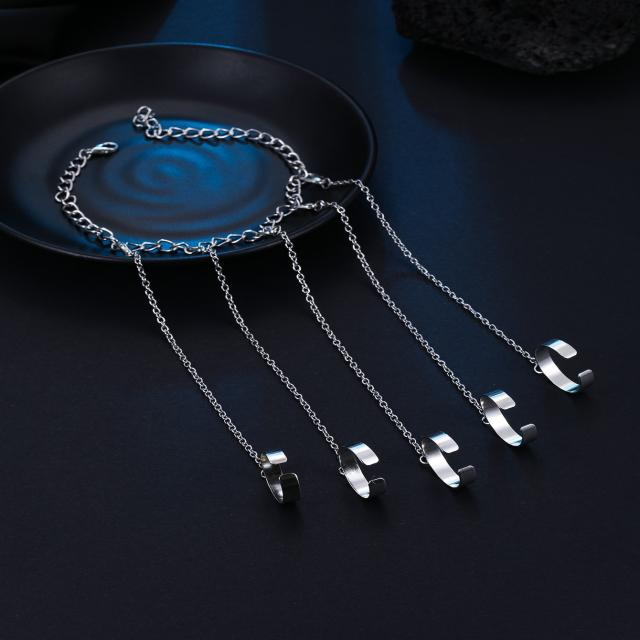bracelet: (22, 65, 640, 540)
